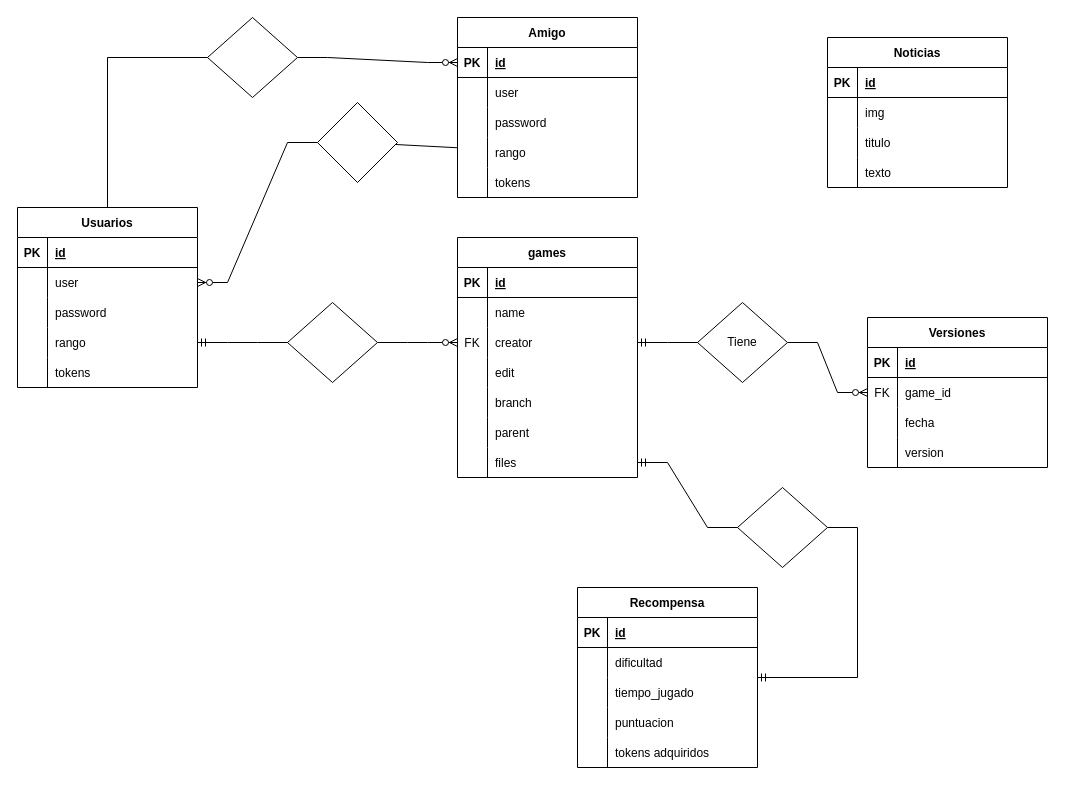
Image size: 1065x785. Some labels were removed from this diagram. The centre of each missing label's shape, as x and y in pixels:
Crea / Juega: point (332, 342)
Es amigo de: point (252, 57)
Genera: point (782, 527)
Habla con: point (357, 142)
